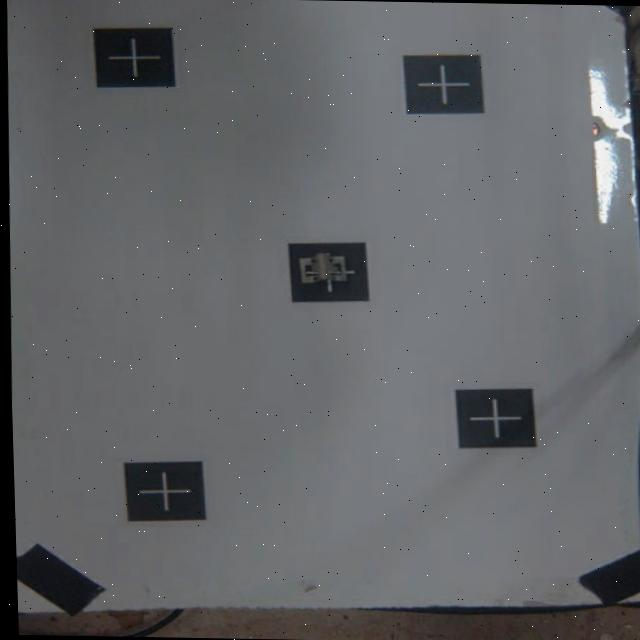pick3: (290, 242, 369, 302)
